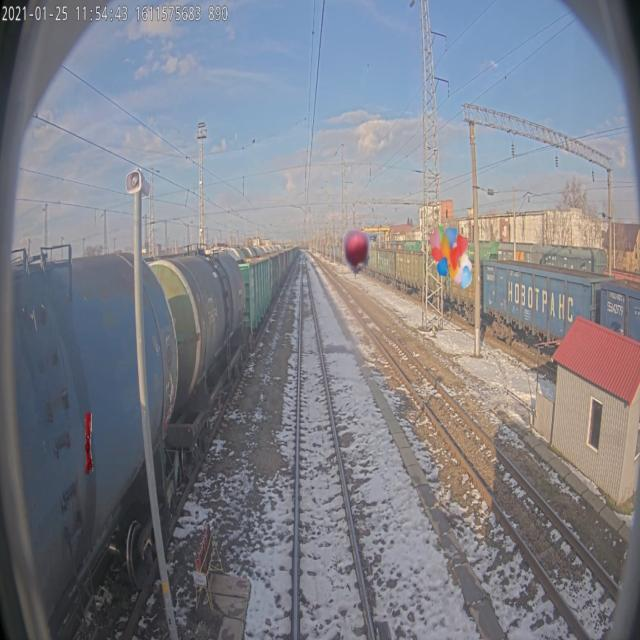balloon: (429, 225, 473, 289), (336, 224, 375, 288)
floating object: (85, 410, 93, 474)
